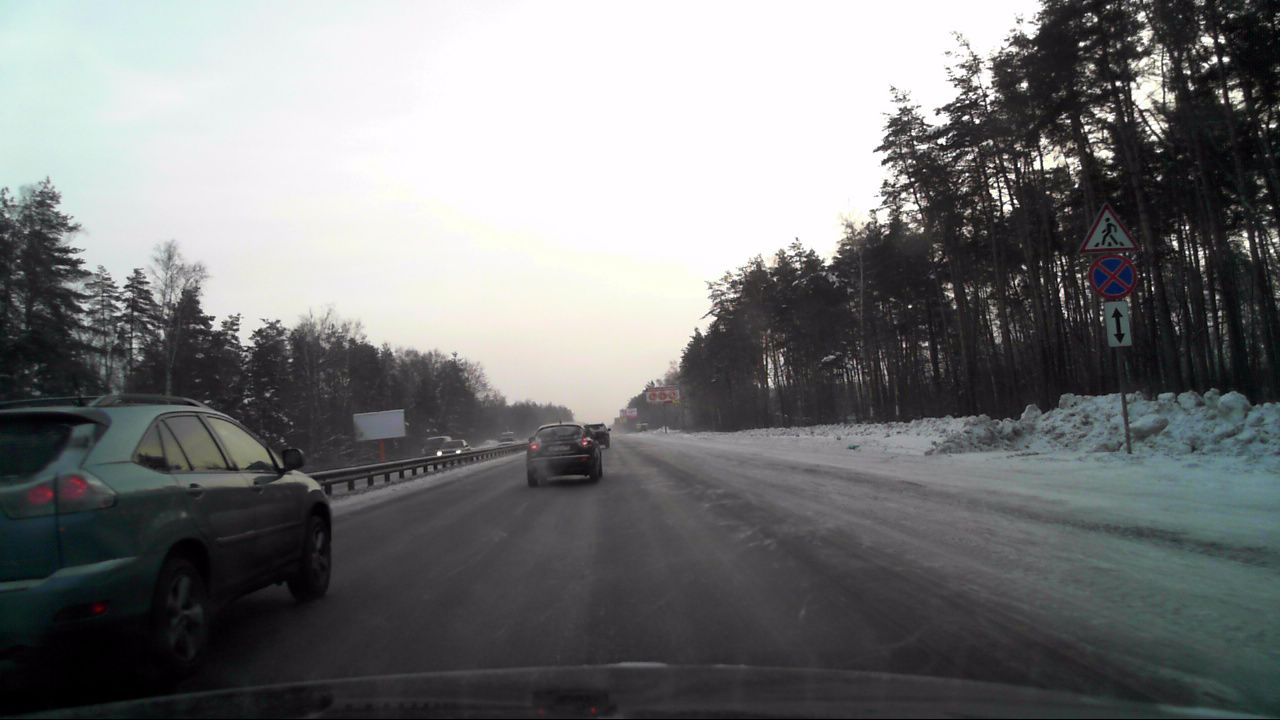No Parking: (1089, 254, 1137, 298)
